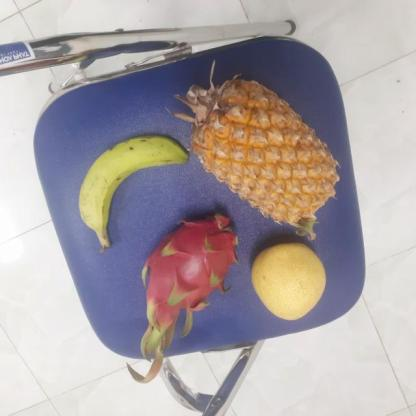banana: (75, 134, 186, 248)
pear: (248, 243, 328, 321)
pineapple: (184, 81, 332, 230)
pitaya: (136, 210, 239, 317)
